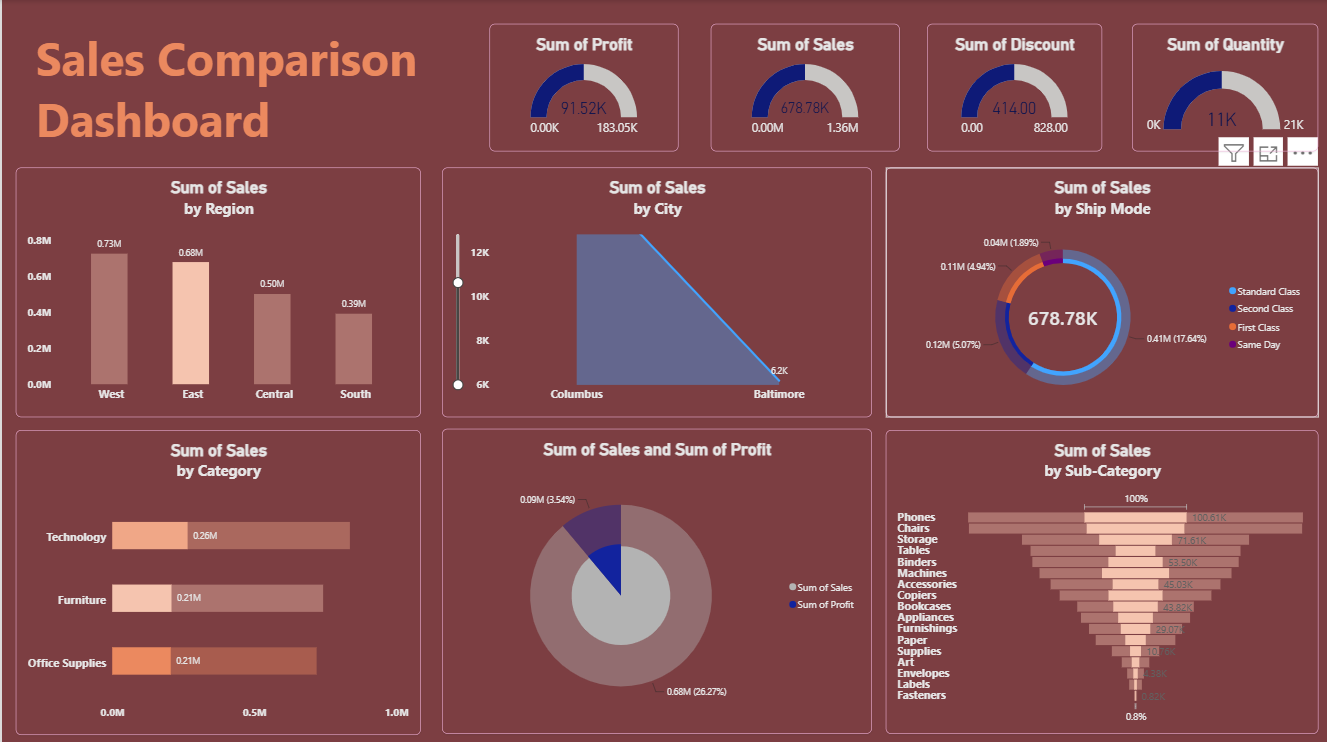

The page's visual inventory and layout, read from the dashboard file:
{"tool":"powerbi","page":{"name":"Page 1","canvas":[1920,1080],"ordinal":0},"visuals":[{"type":"barChart","fields":{"Category":["Orders.Category"],"Y":["Sum(Orders.Sales)"]},"box":[19.9,622.5,586.3,441.6],"z":0},{"type":"donutChart","fields":{"Category":["Orders.Ship Mode"],"Y":["Sum(Orders.Sales)"]},"box":[1279.4,242.5,626.1,361.9],"z":1},{"type":"pieChart","fields":{"Y":["Sum(Orders.Sales)","Sum(Orders.Profit)"]},"box":[637,620.7,622.5,441.6],"z":2},{"type":"funnel","fields":{"Category":["Orders.Sub-Category"],"Y":["Sum(Orders.Sales)"]},"box":[1279.4,622.5,626.1,439.7],"z":3},{"type":"clusteredColumnChart","fields":{"Category":["Orders.Region"],"Y":["Sum(Orders.Sales)"]},"box":[19.9,242.5,586.3,361.9],"z":4},{"type":"areaChart","fields":{"Category":["Orders.City"],"Y":["Sum(Orders.Sales)"]},"box":[637,242.5,622.5,361.9],"z":5},{"type":"gauge","fields":{"Y":["Sum(Orders.Profit)"]},"box":[705.8,34.4,273.3,184.6],"z":6},{"type":"gauge","fields":{"Y":["Sum(Orders.Sales)"]},"box":[1026.1,34.4,273.3,184.6],"z":7},{"type":"gauge","fields":{"Y":["Sum(Orders.Discount)"]},"box":[1339.1,34.4,253.4,184.6],"z":8},{"type":"gauge","fields":{"Y":["Sum(Orders.Quantity)"]},"box":[1635.9,34.4,269.6,184.6],"z":9},{"type":"shape","box":[49.4,35,629.8,184.6],"z":10}]}

Visuals, with their boxes in screenshot pixels (x1, y1, x2, y2), scaled from the page's 1920x1080 canvas onto the 1327x742 screenshot:
barChart - Orders.Category x Sum(Orders.Sales): x1=14 y1=428 x2=419 y2=731
donutChart - Orders.Ship Mode x Sum(Orders.Sales): x1=884 y1=167 x2=1317 y2=415
pieChart - Sum(Orders.Sales) x Sum(Orders.Profit): x1=440 y1=426 x2=870 y2=730
funnel - Orders.Sub-Category x Sum(Orders.Sales): x1=884 y1=428 x2=1317 y2=730
clusteredColumnChart - Orders.Region x Sum(Orders.Sales): x1=14 y1=167 x2=419 y2=415
areaChart - Orders.City x Sum(Orders.Sales): x1=440 y1=167 x2=870 y2=415
gauge - Sum(Orders.Profit): x1=488 y1=24 x2=677 y2=150
gauge - Sum(Orders.Sales): x1=709 y1=24 x2=898 y2=150
gauge - Sum(Orders.Discount): x1=926 y1=24 x2=1101 y2=150
gauge - Sum(Orders.Quantity): x1=1131 y1=24 x2=1317 y2=150
shape: x1=34 y1=24 x2=469 y2=151
